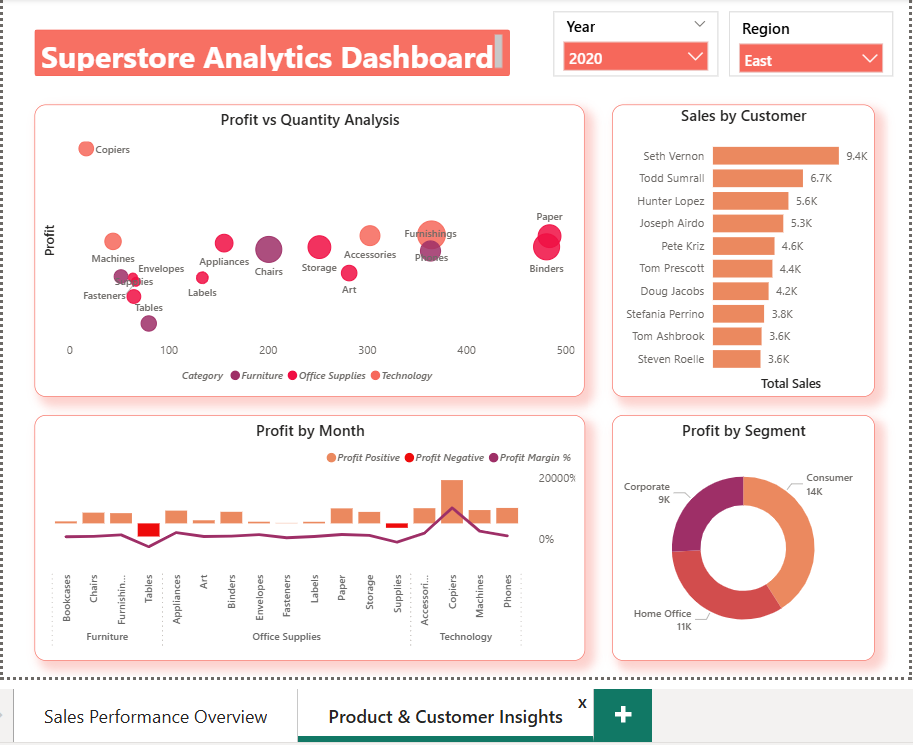

Layout of this report page (visuals, bound fields, positions):
{"tool":"powerbi","page":{"name":"Product & Customer Insights","canvas":[960,720],"ordinal":1},"visuals":[{"type":"lineStackedColumnComboChart","title":"Profit by Month","fields":{"Category":["SuperStore_Sales.Category","SuperStore_Sales.Sub-Category"],"Y":["SuperStore_Sales.Profit Positive","SuperStore_Sales.Profit Negative"],"Y2":["SuperStore_Sales.Profit Margin %"]},"box":[33.4,442.2,583.8,260.9],"z":0},{"type":"donutChart","title":"Profit by Segment","fields":{"Y":["SuperStore_Sales.Total_Profit"],"Category":["SuperStore_Sales.Segment"]},"box":[645.8,442.2,278.4,260.9],"z":1000},{"type":"barChart","title":"Sales by Customer ","fields":{"Category":["SuperStore_Sales.Customer Name"],"Y":["SuperStore_Sales.Total_Sales"]},"box":[645.8,112.9,278.4,310.2],"z":2000},{"type":"scatterChart","title":"Profit vs Quantity Analysis","fields":{"Y":["SuperStore_Sales.Total_Profit"],"X":["SuperStore_Sales.Total_Quantity"],"Category":["SuperStore_Sales.Sub-Category"],"Size":["Sum(SuperStore_Sales.Sales)"],"Series":["SuperStore_Sales.Category"]},"box":[33.4,112.9,583,310.2],"z":3000},{"type":"shape","box":[33.4,33.4,504.2,49.3],"z":4000},{"type":"textbox","box":[33.4,33.4,501,49.3],"z":5000},{"type":"slicer","fields":{"Values":["SuperStore_Sales.Order Date.Variation.Date Hierarchy.Year","SuperStore_Sales.Order Date.Variation.Date Hierarchy.Quarter","SuperStore_Sales.Order Date.Variation.Date Hierarchy.Month","SuperStore_Sales.Order Date.Variation.Date Hierarchy.Day"]},"box":[583.8,14.3,175,68.4],"z":6000},{"type":"slicer","fields":{"Values":["SuperStore_Sales.Region"]},"box":[769.9,14.3,174,68.4],"z":7000}]}

Visuals, with their boxes on the page's 960x720 design canvas (x1, y1, x2, y2). These are canvas units, not pixel positions in the 913x745 screenshot, which may show the page scaled, cropped or inside an application window:
"Profit by Month" lineStackedColumnComboChart: box(33, 442, 617, 703)
"Profit by Segment" donutChart: box(646, 442, 924, 703)
"Sales by Customer " barChart: box(646, 113, 924, 423)
"Profit vs Quantity Analysis" scatterChart: box(33, 113, 616, 423)
shape: box(33, 33, 538, 83)
textbox: box(33, 33, 534, 83)
slicer - SuperStore_Sales.Order Date.Variation.Date Hierarchy.Year x SuperStore_Sales.Order Date.Variation.Date Hierarchy.Quarter: box(584, 14, 759, 83)
slicer - SuperStore_Sales.Region: box(770, 14, 944, 83)
